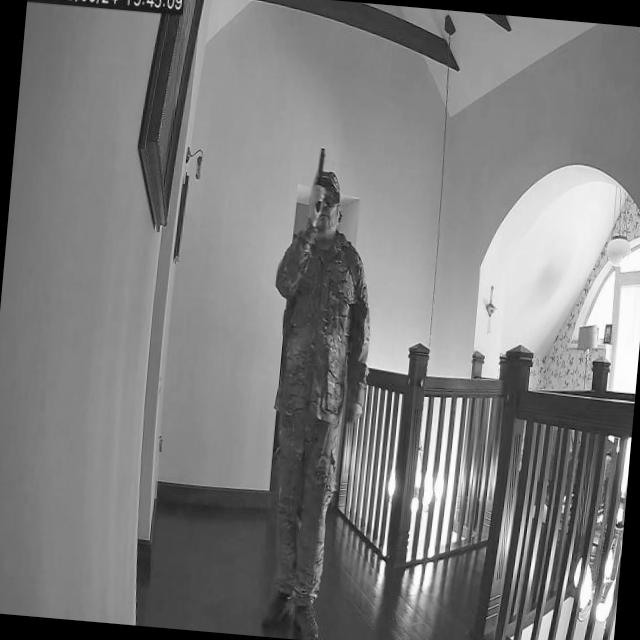gun: (308, 147, 328, 213)
person with a gun: (242, 162, 385, 640)
